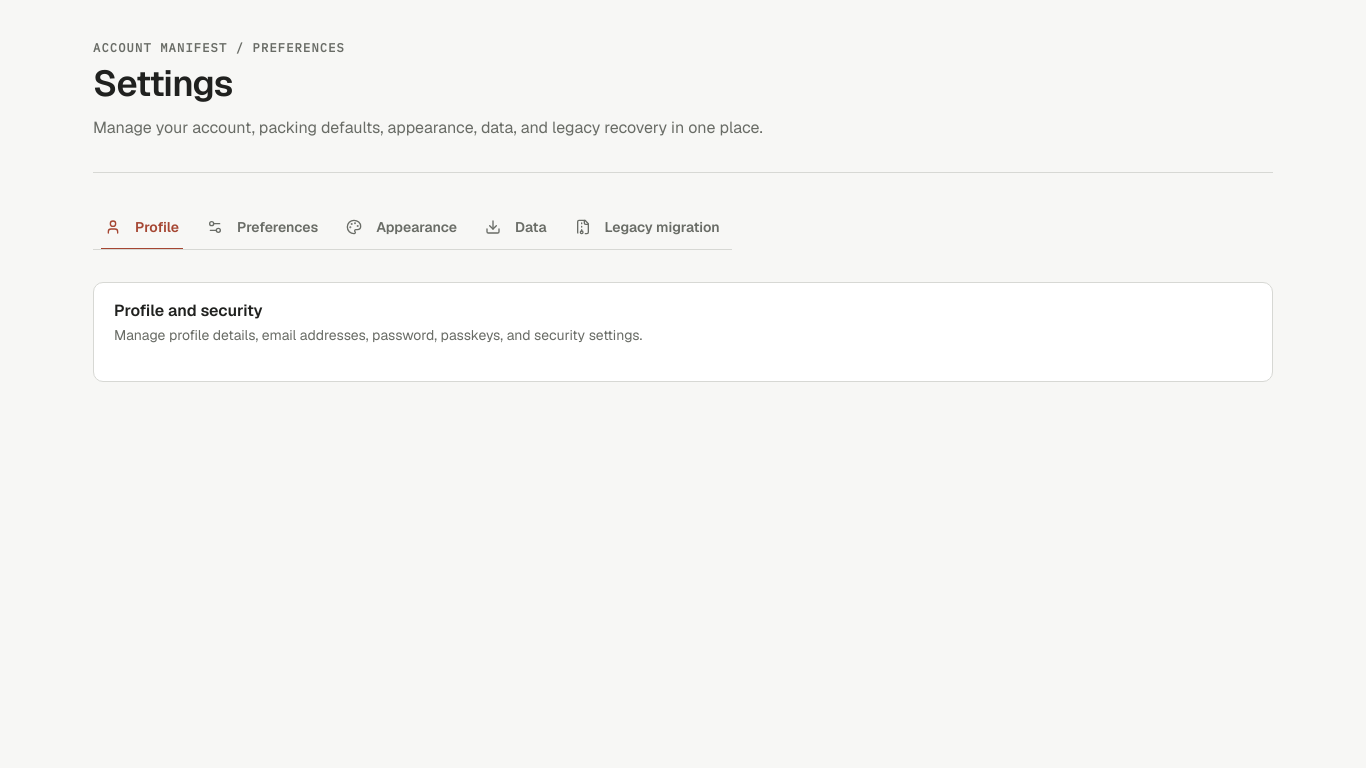
it: SettingsPage › announces asynchronous preference failures
What coordinates should you click on to do the following:
click the tab "Preferences"
I would click on:
 (263, 227)
Its box is [195, 205, 330, 249].
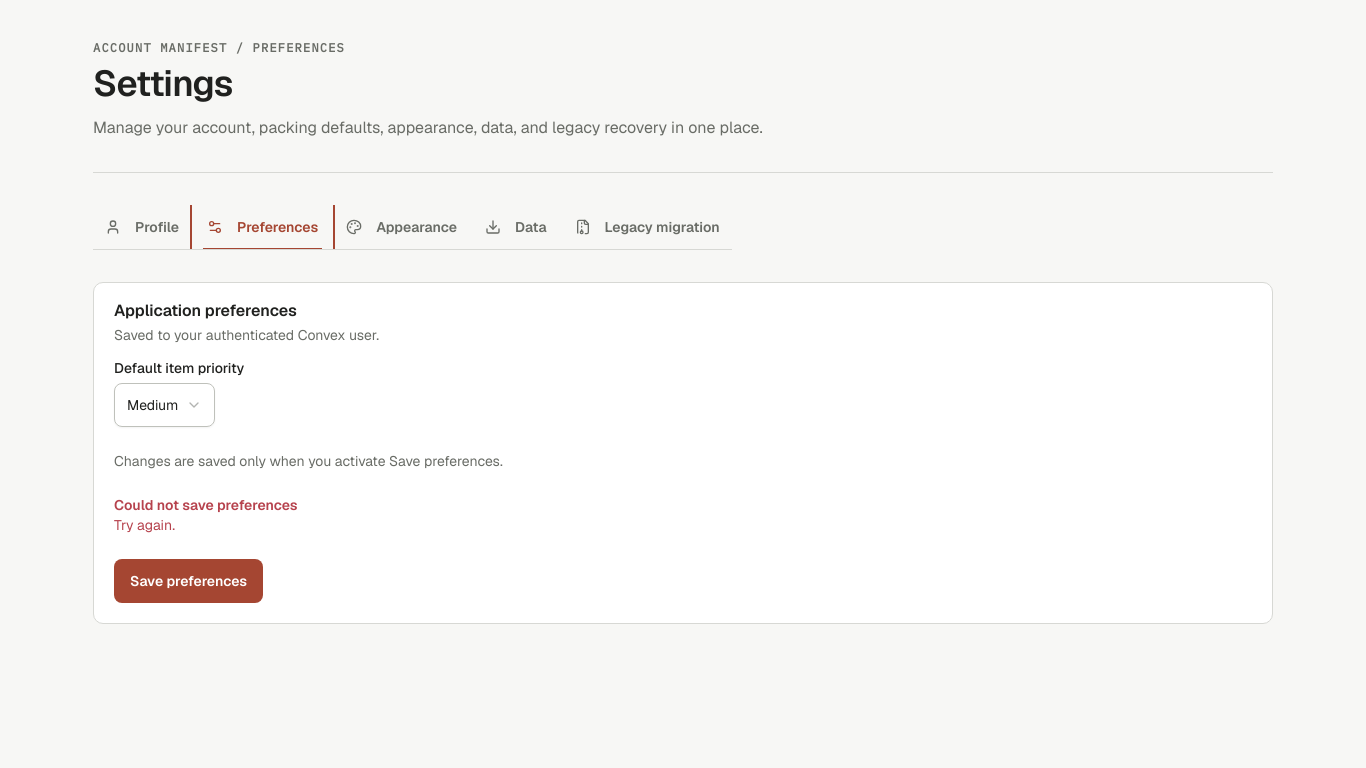
Expected: the message shows "Could not save preferences", [114, 496, 298, 514]
Expected: the message shows "Try again.", [114, 516, 175, 534]
